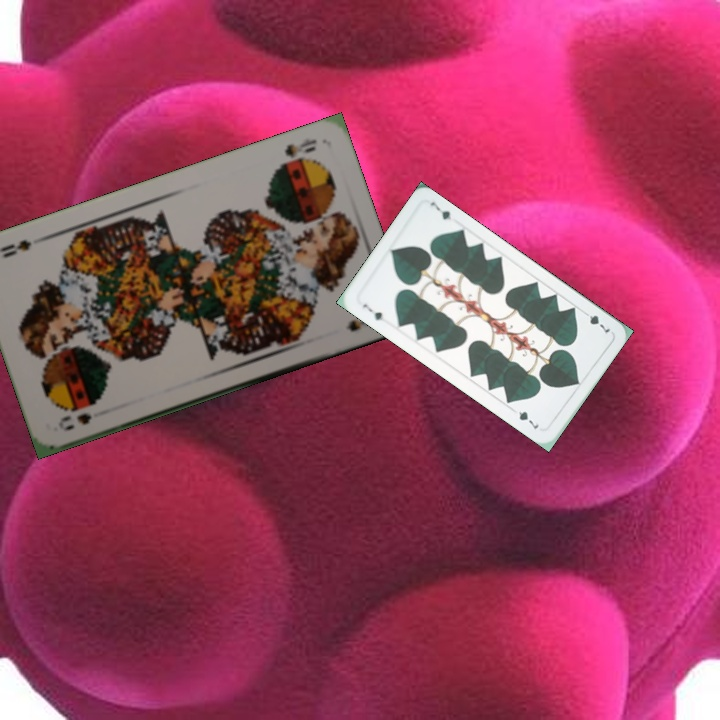G7: (578, 306, 613, 335), (358, 299, 389, 326)
SO: (275, 134, 320, 170), (54, 409, 95, 434)
